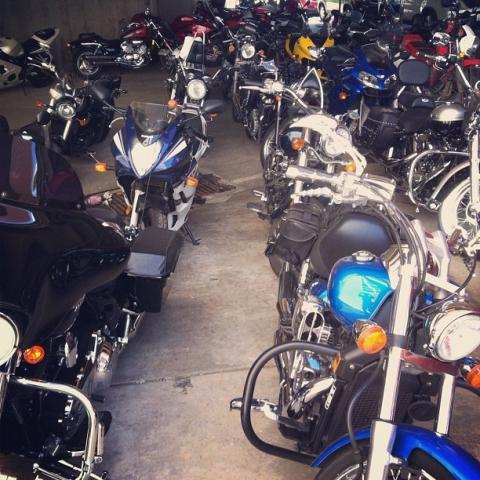motorcycle: (230, 162, 479, 474), (3, 117, 184, 474), (356, 30, 479, 255), (88, 83, 212, 248), (237, 74, 368, 224), (66, 5, 181, 79), (273, 10, 351, 108), (322, 43, 411, 118), (30, 52, 84, 152), (0, 27, 61, 97), (164, 28, 212, 115)
